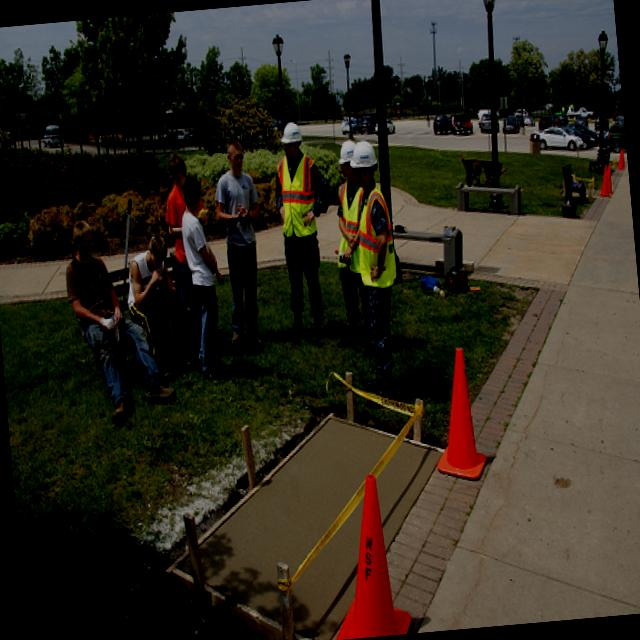Vehicle: (152, 80, 625, 178), (538, 123, 583, 154), (564, 118, 600, 152), (605, 122, 627, 156), (448, 112, 472, 135), (42, 124, 64, 148), (432, 113, 454, 135), (477, 111, 499, 132), (501, 113, 522, 134), (373, 117, 396, 136), (341, 118, 359, 134), (536, 115, 552, 130), (359, 114, 376, 128), (514, 107, 529, 117)
